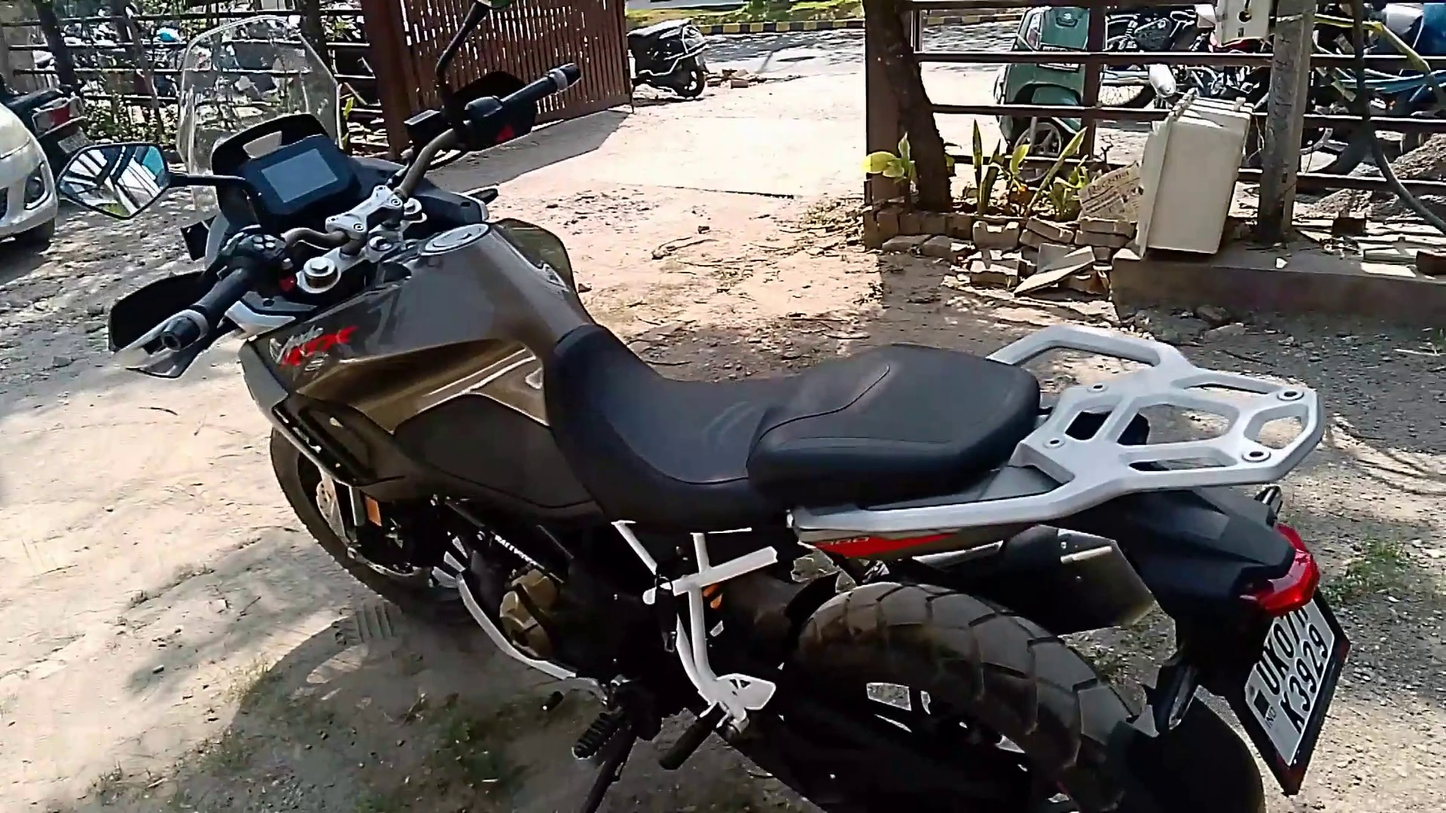engine: (465, 512, 597, 685)
